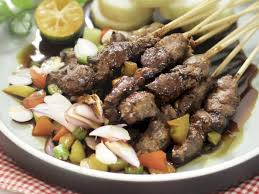sate: (26, 14, 245, 170)
